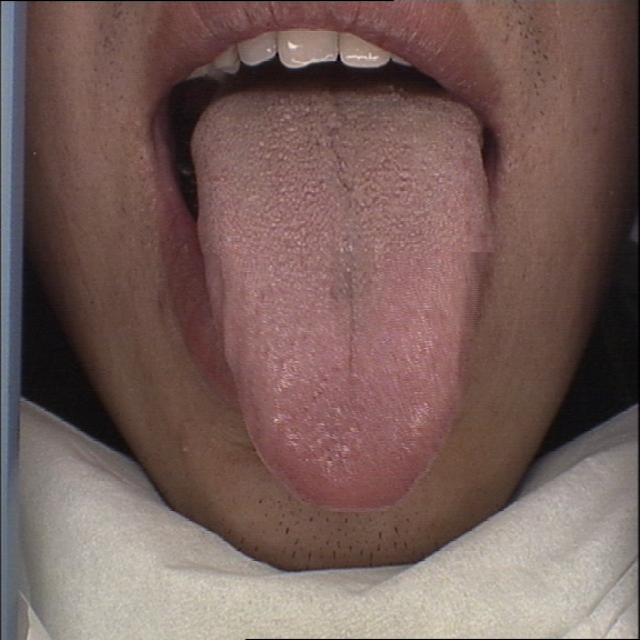tongue: (185, 84, 500, 521)
